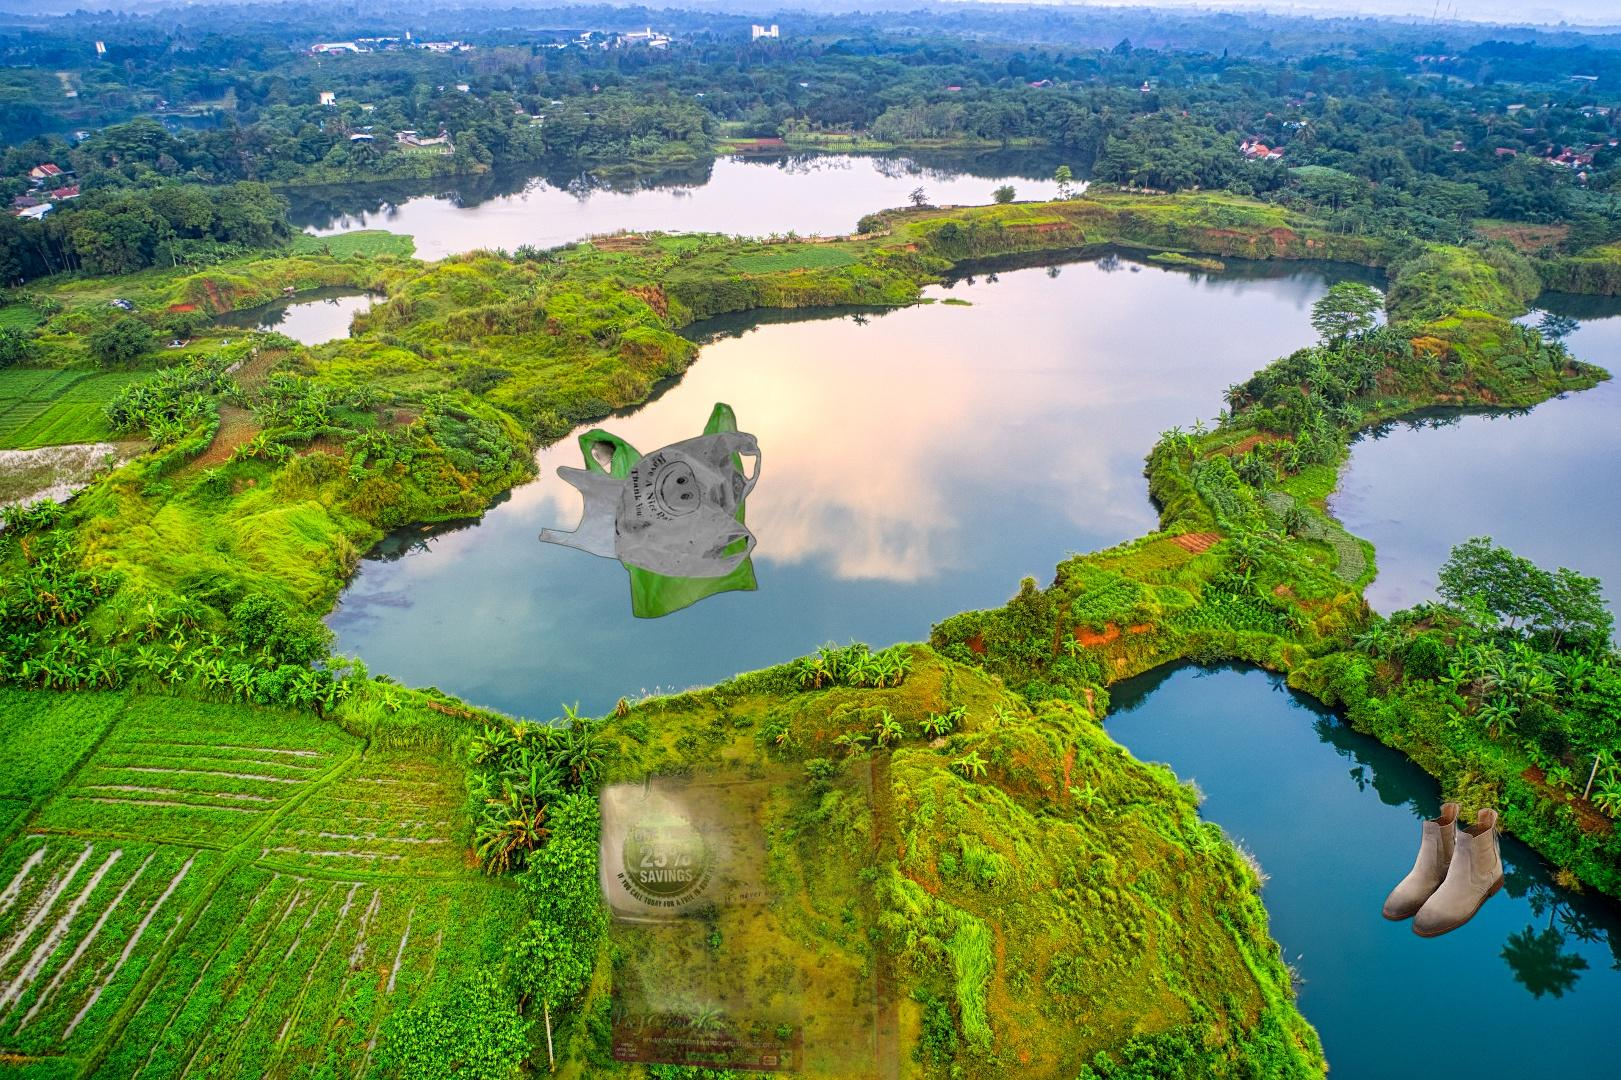paper: (432, 731, 912, 1080)
plastic-bag: (538, 400, 763, 622)
shoes: (1379, 797, 1508, 941)
